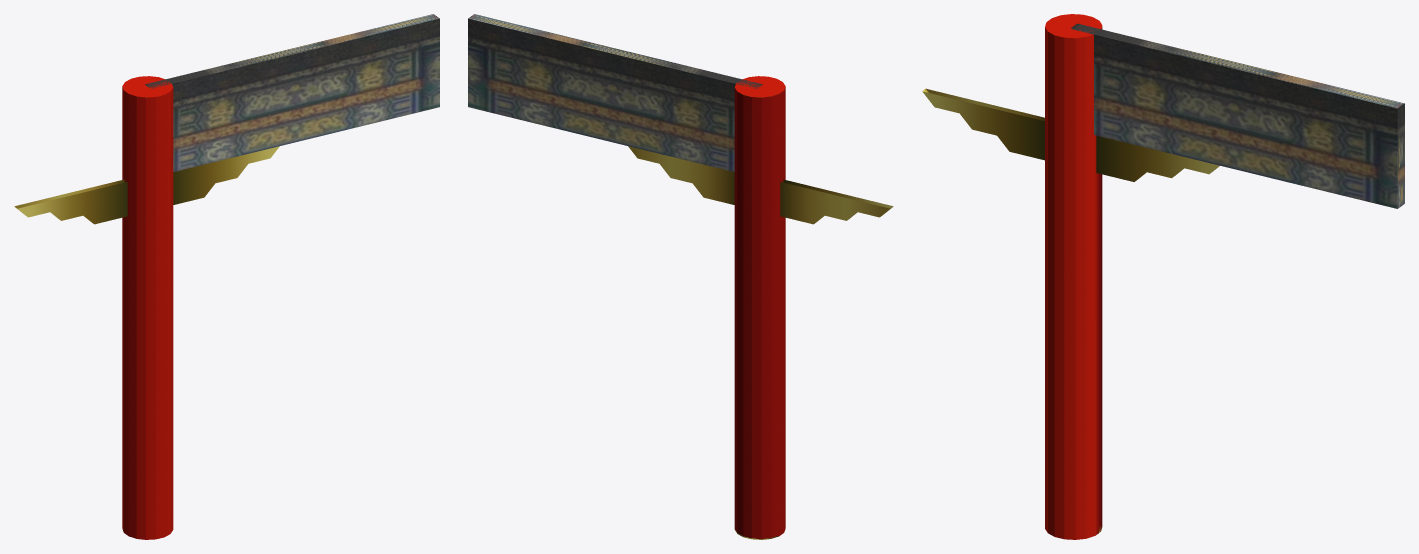
File: col.dae
3 renders of one model, left to right at view 1: azimuth 30°, elevation 25°; view 2: azimuth 150°, elevation 25°; view 3: azimuth 330°, elevation 25°, orthographic. The views are drawn at different scales.
Parts seen in each view (by area): view 1: MainNode; view 2: MainNode; view 3: MainNode.
Boxes of the visible parts, <box> form: MainNode: <box>14,14,439,539</box>; MainNode: <box>468,14,893,539</box>; MainNode: <box>922,14,1404,539</box>.
Bounding box in the file's own units: 4.78 × 4.8 × 0.4904.
Materials: 1 (1 with a texture image).
